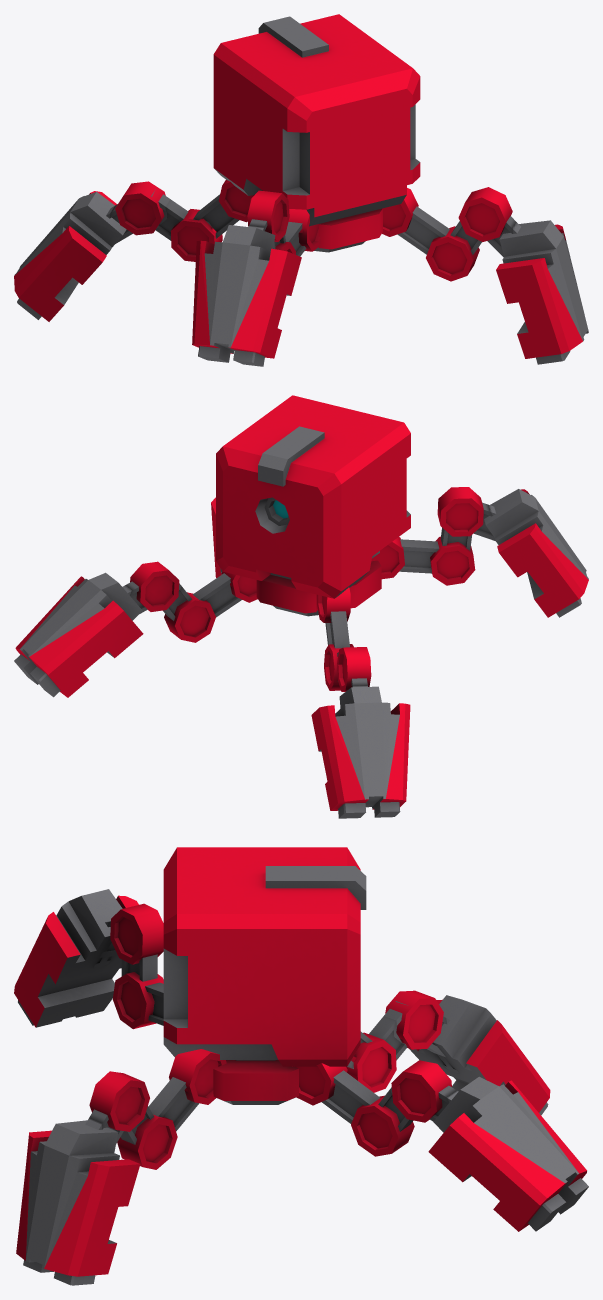
File: Monster1_Move16.obj
3 renders of one model, top to bottom at view 1: azimuth 30°, elevation 25°; view 2: azimuth 150°, elevation 25°; view 3: azimuth 270°, elevation 25°, orthographic. The views are drawn at different scales.
Parts seen in each view (by area): view 1: Box006, Object021, Object017, Object025, Object020, Object027, Object028, Object018, Object019, Object026, Object024, Object022; view 2: Box006, Object025, Object013, Object021, Object024, Object016, Object015, Object023, Object022, Object014, Object026, Object028 (+1 smaller); view 3: Box006, Object017, Object013, Object021, Object025, Object018, Object020, Object016, Object014, Object027, Object024, Object015 (+3 smaller).
Part boxes in pixels (bbox=[...]): Box006: bbox=[213, 14, 420, 252]; Object021: bbox=[192, 225, 301, 366]; Object017: bbox=[496, 220, 588, 364]; Object025: bbox=[14, 191, 126, 321]; Object020: bbox=[458, 187, 520, 257]; Object027: bbox=[151, 189, 222, 261]; Object028: bbox=[106, 181, 165, 243]; Object018: bbox=[382, 188, 449, 254]; Object019: bbox=[426, 221, 481, 281]; Object026: bbox=[193, 180, 252, 238]; Object024: bbox=[247, 190, 289, 241]; Object022: bbox=[285, 209, 320, 256]; Box006: bbox=[216, 395, 410, 616]; Object025: bbox=[311, 686, 410, 818]; Object013: bbox=[14, 572, 143, 697]; Object021: bbox=[484, 489, 588, 617]; Object024: bbox=[437, 487, 495, 540]; Object016: bbox=[122, 561, 179, 613]; Object015: bbox=[163, 583, 215, 642]; Object023: bbox=[430, 527, 475, 585]; Object022: bbox=[371, 537, 439, 579]; Object014: bbox=[192, 571, 257, 617]; Object026: bbox=[317, 587, 350, 648]; Object028: bbox=[337, 647, 371, 691]; Box006: bbox=[163, 847, 366, 1104]; Object017: bbox=[16, 1120, 140, 1285]; Object013: bbox=[428, 1076, 588, 1231]; Object021: bbox=[14, 889, 138, 1027]; Object025: bbox=[409, 995, 550, 1115]; Object018: bbox=[148, 1049, 226, 1131]; Object020: bbox=[85, 1071, 149, 1143]; Object016: bbox=[391, 1060, 458, 1122]; Object014: bbox=[292, 1063, 380, 1123]; Object027: bbox=[346, 1001, 407, 1092]; Object024: bbox=[99, 903, 163, 964]; Object015: bbox=[351, 1087, 414, 1156].
Size of the model in its own units: 159 by 113 by 172.
